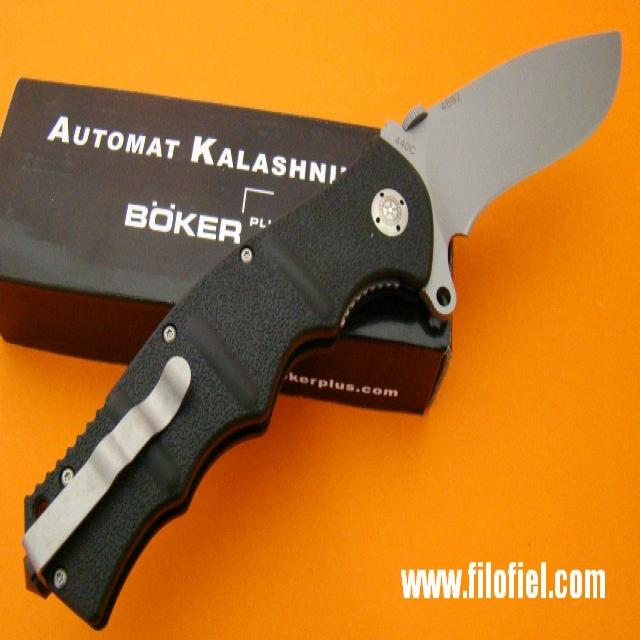knife: (19, 22, 629, 640)
